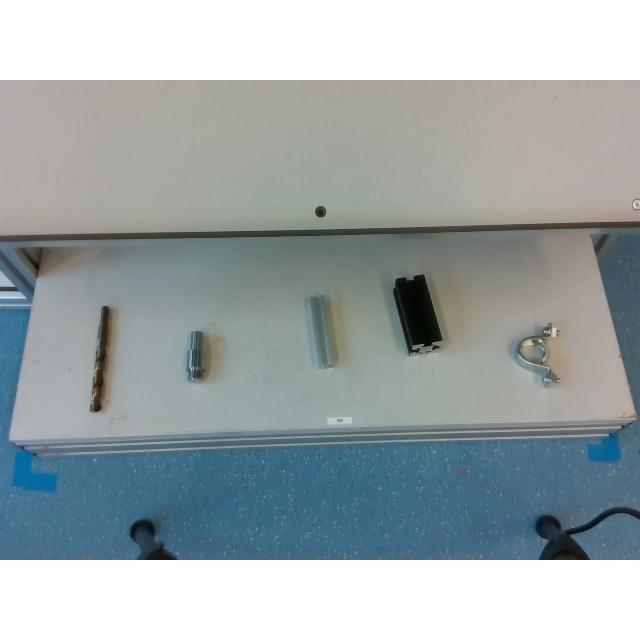Axis2: (186, 329, 206, 378)
Drill: (89, 304, 111, 412)
F20_20_G: (308, 296, 336, 368)
Housing: (515, 322, 561, 382)
S40_40_B: (393, 274, 442, 352)
